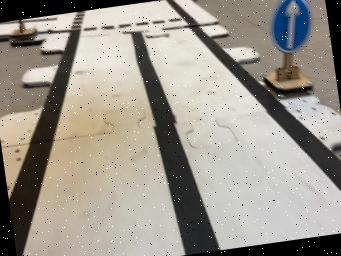forward: (263, 0, 312, 94), (263, 0, 312, 94), (263, 0, 312, 94), (263, 0, 312, 94), (263, 0, 312, 94)
street: (8, 0, 341, 256), (8, 0, 341, 256), (8, 0, 341, 256), (8, 0, 341, 256), (8, 0, 341, 256), (0, 20, 20, 36), (0, 20, 20, 36), (0, 20, 20, 36), (0, 20, 20, 36), (0, 20, 20, 36)
